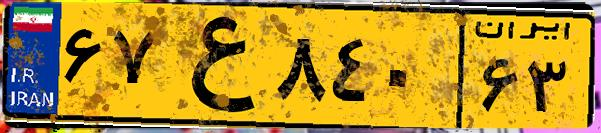0: (385, 28, 445, 110)
3: (525, 38, 570, 115)
4: (330, 28, 385, 110)
6: (57, 26, 110, 100), (475, 38, 525, 113)
7: (110, 28, 158, 98)
8: (270, 28, 330, 110)
ع: (158, 12, 270, 120)
